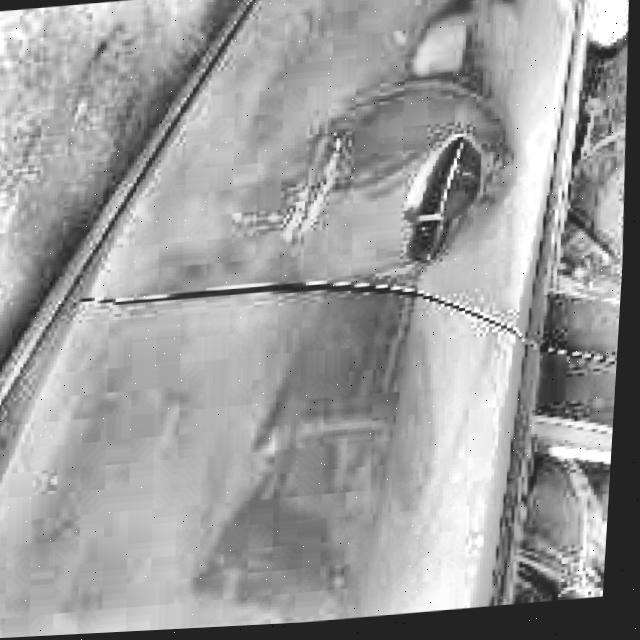door_dent: (267, 70, 518, 263)
door_scratch: (270, 117, 347, 259)
